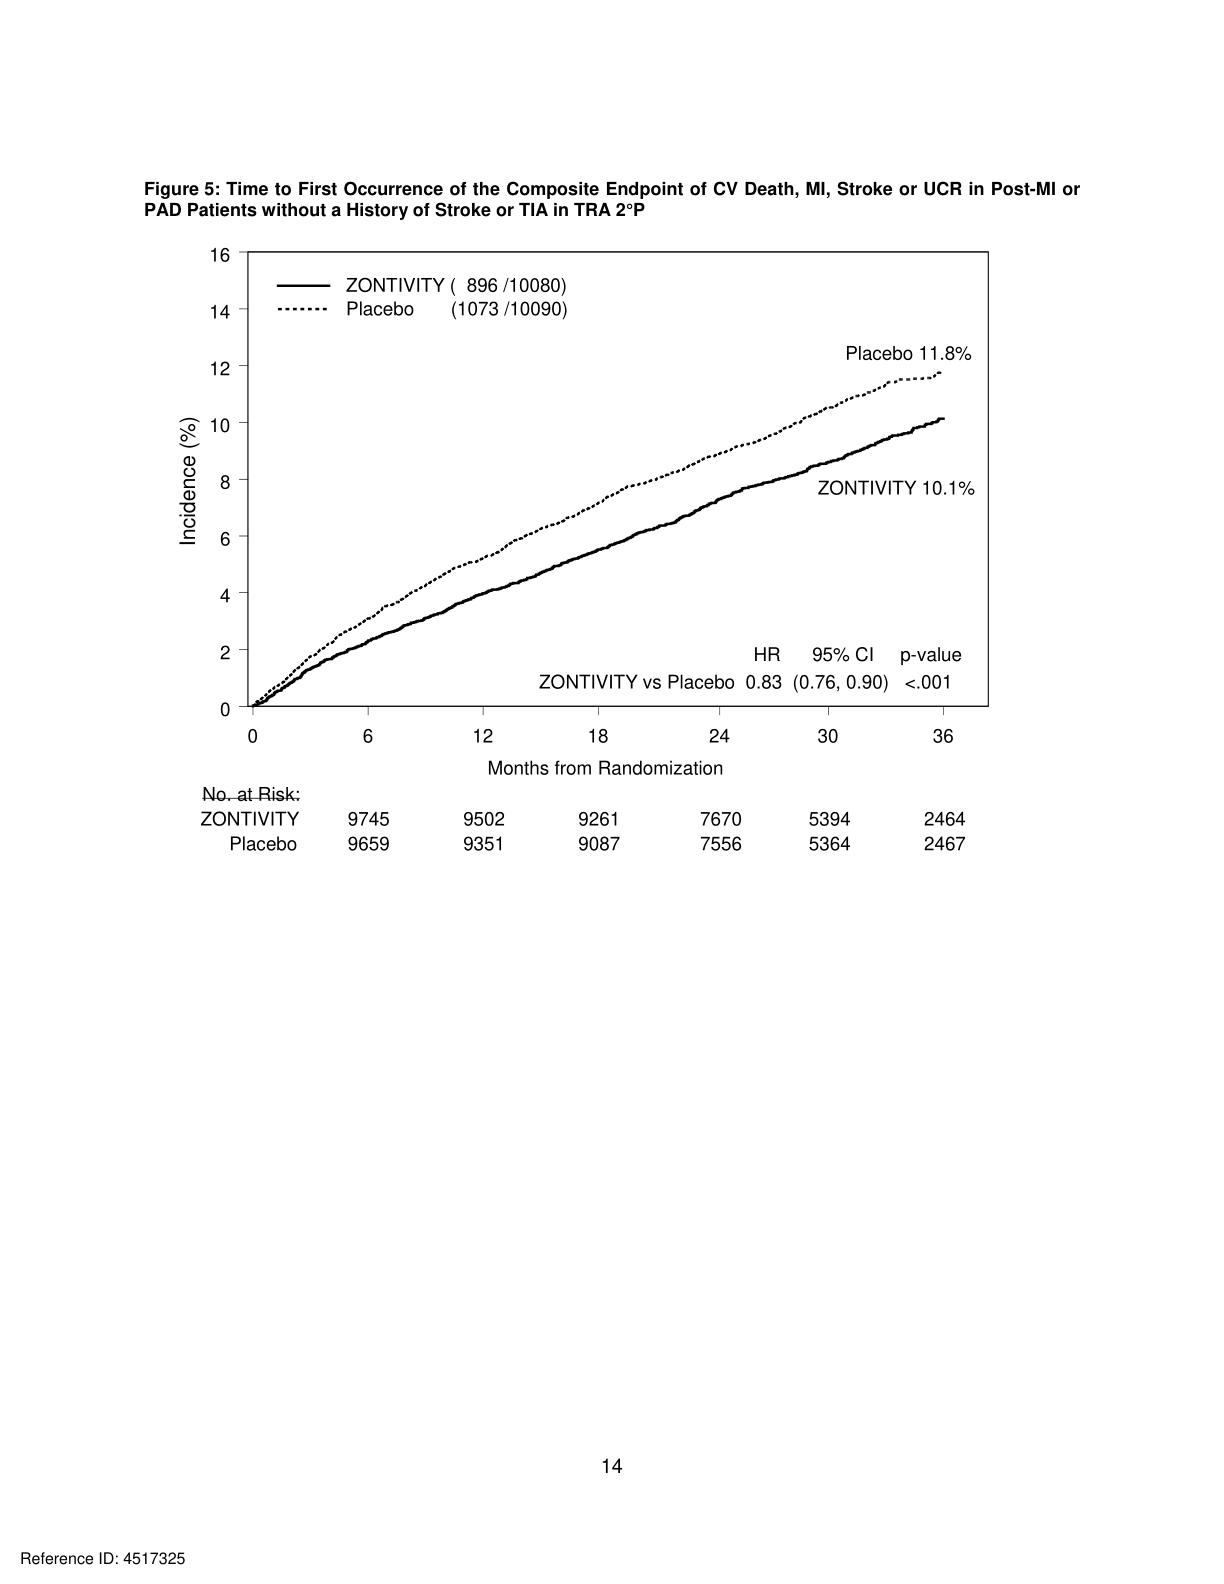nolines: (195, 807, 966, 854)
